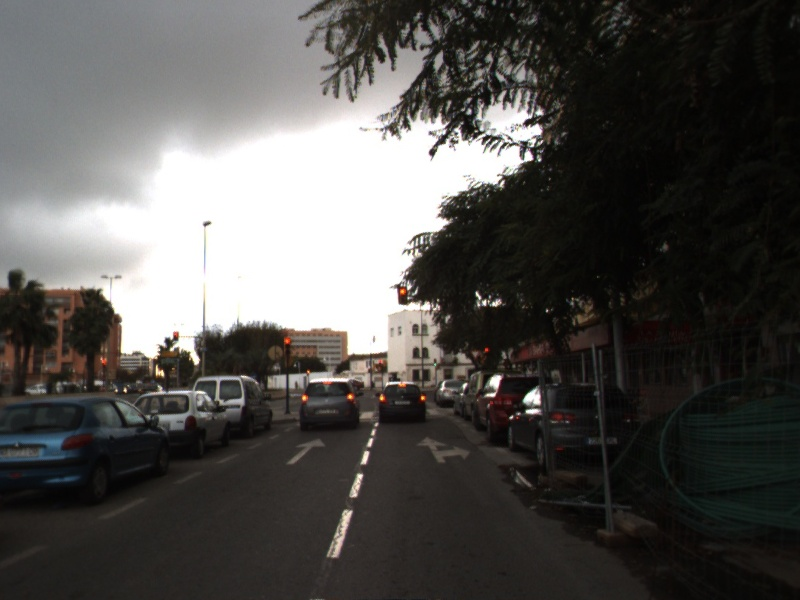STRAIGHT: (285, 437, 327, 465)
STRAIGHT_RIGHT: (415, 435, 472, 464)
